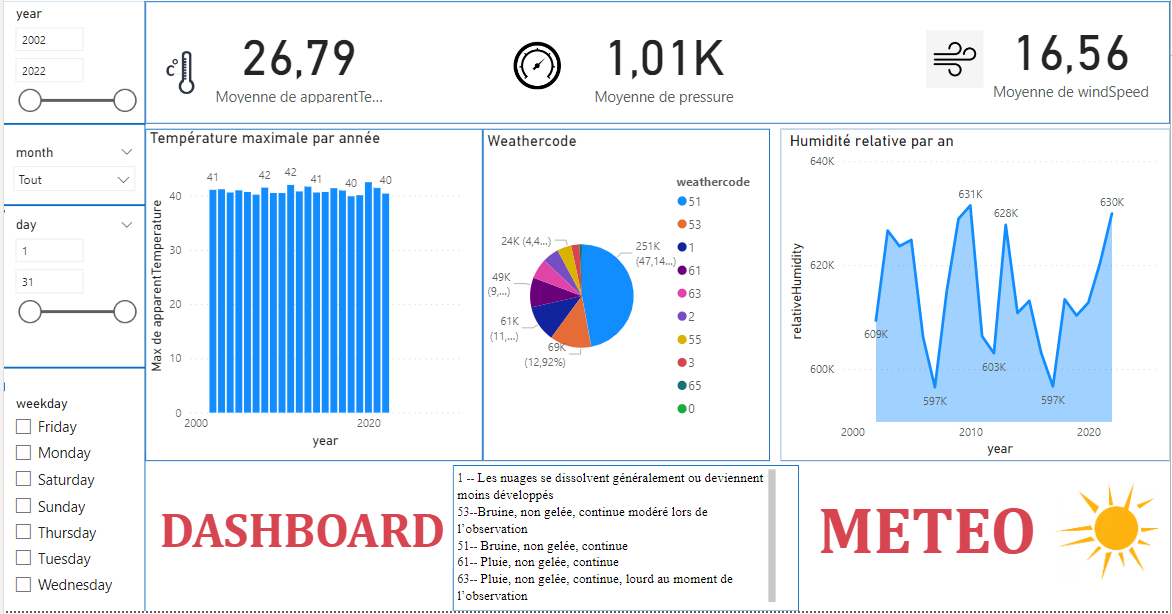

The page's visual inventory and layout, read from the dashboard file:
{"tool":"powerbi","page":{"name":"Page 1","canvas":[1280,720],"ordinal":0},"visuals":[{"type":"shape","box":[0,50.8,155,669.5],"z":0},{"type":"shape","box":[155,50.8,1125,134.4],"z":1000},{"type":"slicer","fields":{"Values":["dakarWeather.year"]},"box":[0,50.8,153.7,167.4],"z":2000},{"type":"slicer","fields":{"Values":["dakarWeather.month"]},"box":[0,203,153.7,76.8],"z":3000},{"type":"slicer","fields":{"Values":["dakarWeather.weekday"]},"box":[0,478.8,153.7,241.5],"z":4000},{"type":"slicer","fields":{"Values":["dakarWeather.day"]},"box":[0,282.6,153.7,186.6],"z":5000},{"type":"shape","box":[0,177,155,16.5],"z":6000},{"type":"shape","box":[0,266.2,155,16.5],"z":7000},{"type":"shape","box":[0,444.5,155,16.5],"z":8000},{"type":"card","fields":{"Values":["Avg(dakarWeather.apparentTemperature)"]},"box":[223.6,65.9,200.3,101.5],"z":9000},{"type":"card","fields":{"Values":["Avg(dakarWeather.pressure)"]},"box":[617.4,56.2,214,120.7],"z":10000},{"type":"card","fields":{"Values":["Avg(dakarWeather.windSpeed)"]},"box":[1079.7,54.9,182.5,111.1],"z":11000},{"type":"lineClusteredColumnComboChart","title":"Température maximale par année","fields":{"Y":["Max(dakarWeather.apparentTemperature)"],"Category":["dakarWeather.year"]},"box":[155,190.7,359.4,355.3],"z":12000},{"type":"areaChart","title":"Humidité relative par an","fields":{"Category":["dakarWeather.year"],"Y":["Sum(dakarWeather.relativeHumidity)"]},"box":[857.4,193.4,415.7,362.2],"z":13000},{"type":"pieChart","title":" Weathercode","fields":{"Category":["dakarWeather.weathercode"],"Y":["Sum(dakarWeather.weathercode)"]},"box":[525.4,193.4,315.5,343],"z":14000},{"type":"shape","box":[525.4,190.7,315.5,364.9],"z":15000},{"type":"shape","box":[155,190.7,370.4,364.9],"z":16000},{"type":"shape","box":[852,190.7,428,364.9],"z":17000},{"type":"textbox","box":[492.5,559.7,359.4,156.4],"z":18000},{"type":"shape","box":[492.5,559.7,380,160.5],"z":19000},{"type":"textbox","box":[166,559.7,326.5,113.9],"z":19001},{"type":"textbox","box":[872.5,583.1,275.8,109.8],"z":19002},{"type":"image","box":[1148.3,569.3,124.8,126.2],"z":19003},{"type":"image","box":[153.7,90.5,79.6,76.8],"z":19004},{"type":"image","box":[552.9,90.5,64.5,61.7],"z":19005},{"type":"image","box":[1007,75.5,72.7,76.8],"z":19006}]}

Visuals, with their boxes on the page's 1280x720 design canvas (x1, y1, x2, y2). These are canvas units, not pixel positions in the 1172x614 screenshot, which may show the page scaled, cropped or inside an application window:
shape: [0,51,155,720]
shape: [155,51,1280,185]
slicer - dakarWeather.year: [0,51,154,218]
slicer - dakarWeather.month: [0,203,154,280]
slicer - dakarWeather.weekday: [0,479,154,720]
slicer - dakarWeather.day: [0,283,154,469]
shape: [0,177,155,194]
shape: [0,266,155,283]
shape: [0,444,155,461]
card - Avg(dakarWeather.apparentTemperature): [224,66,424,167]
card - Avg(dakarWeather.pressure): [617,56,831,177]
card - Avg(dakarWeather.windSpeed): [1080,55,1262,166]
"Température maximale par année" lineClusteredColumnComboChart: [155,191,514,546]
"Humidité relative par an" areaChart: [857,193,1273,556]
" Weathercode" pieChart: [525,193,841,536]
shape: [525,191,841,556]
shape: [155,191,525,556]
shape: [852,191,1280,556]
textbox: [492,560,852,716]
shape: [492,560,872,720]
textbox: [166,560,492,674]
textbox: [872,583,1148,693]
image: [1148,569,1273,696]
image: [154,90,233,167]
image: [553,90,617,152]
image: [1007,76,1080,152]
